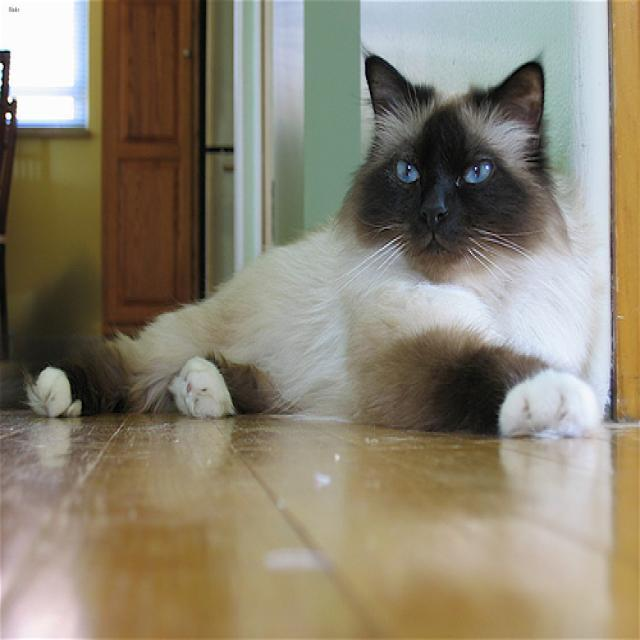Birman: (343, 53, 563, 308)
